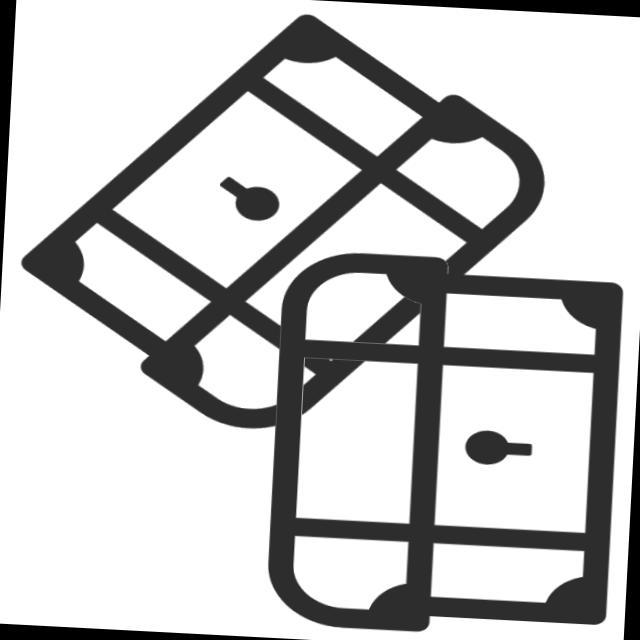treasure_box: (11, 1, 568, 461), (252, 242, 636, 640)
